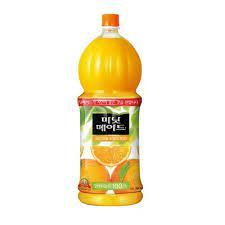minutemaid_org_orange: (74, 10, 145, 209)
